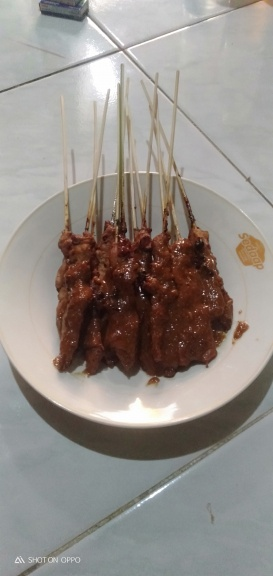sate_madura: (55, 76, 227, 375)
